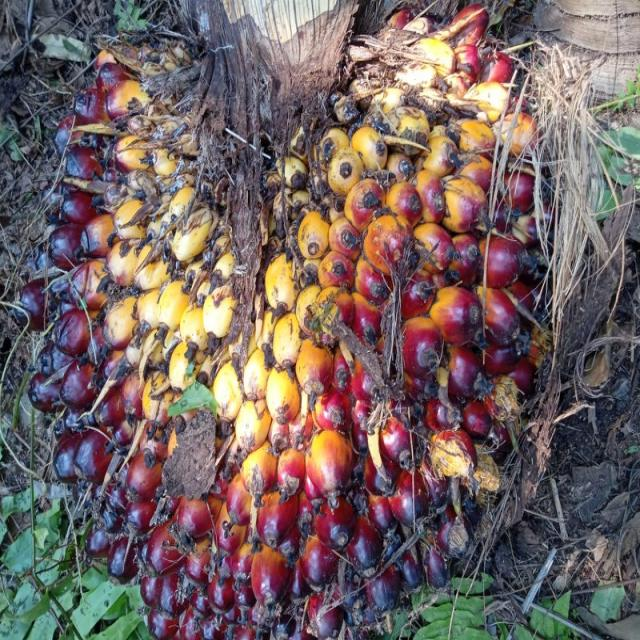fraksi 1: (9, 35, 598, 640)
